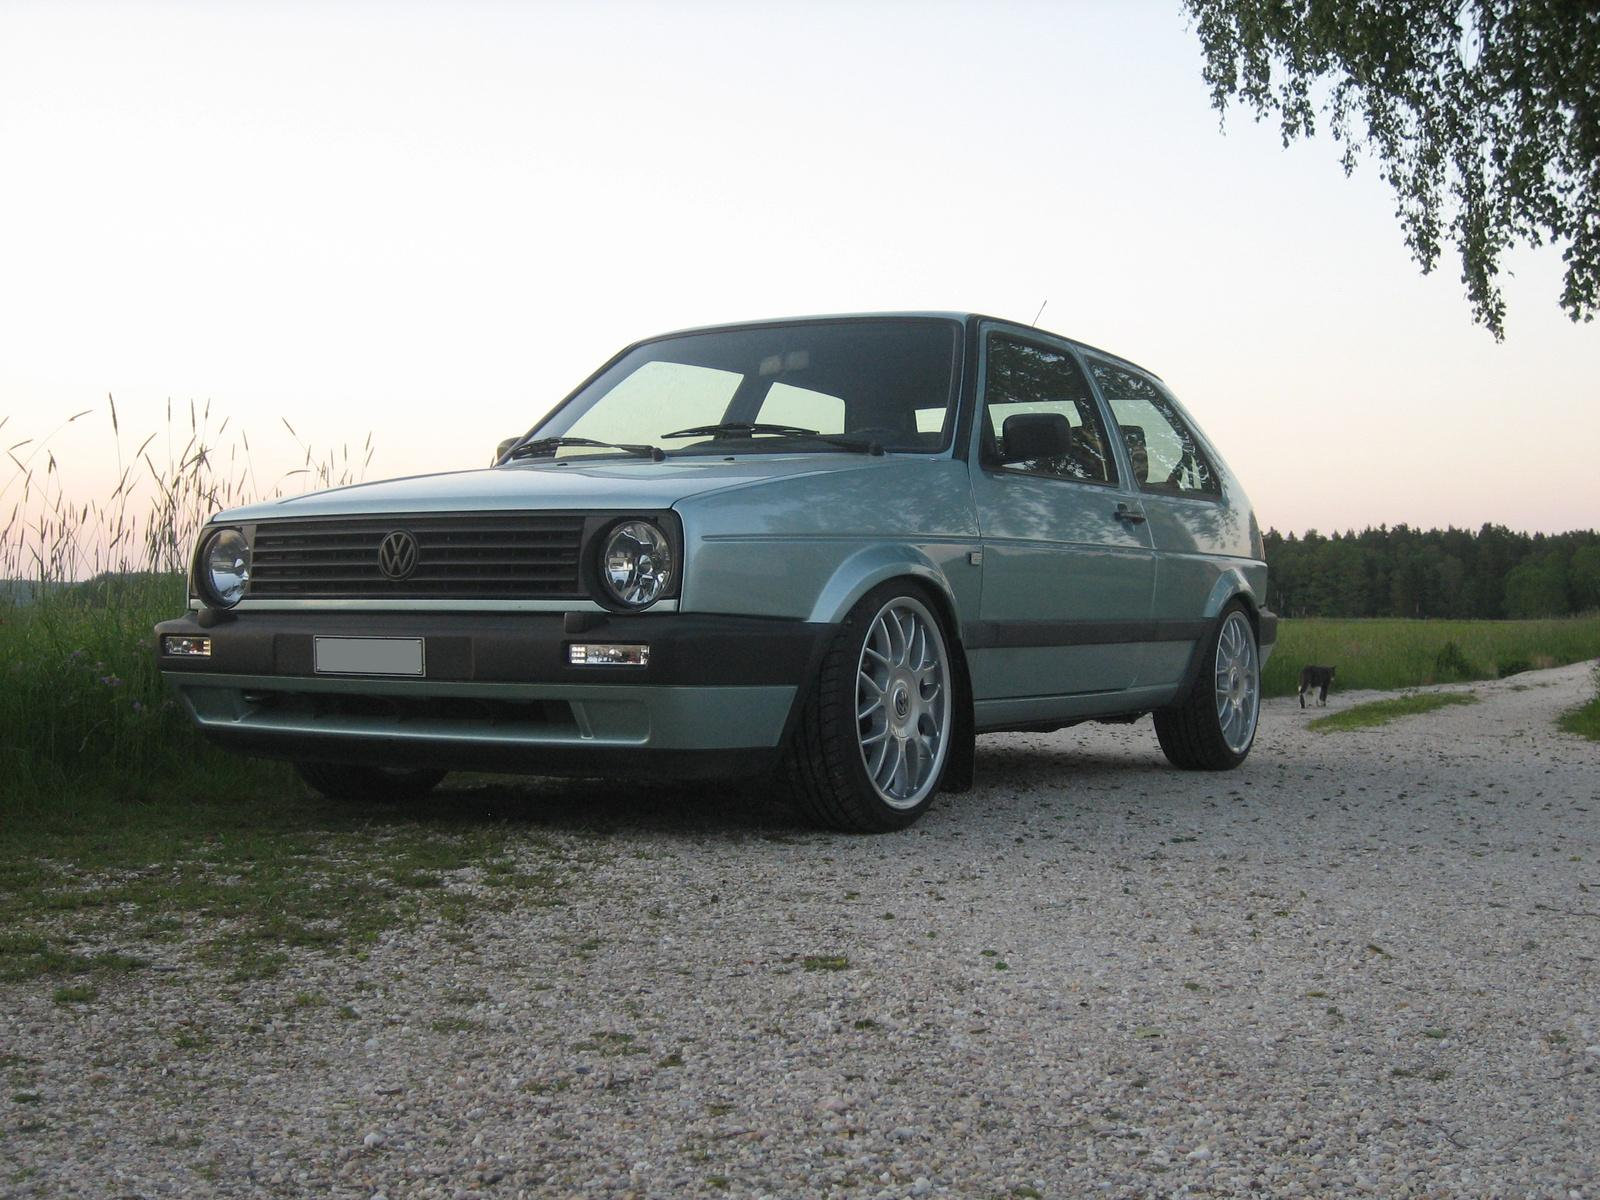car: (184, 295, 1301, 828)
